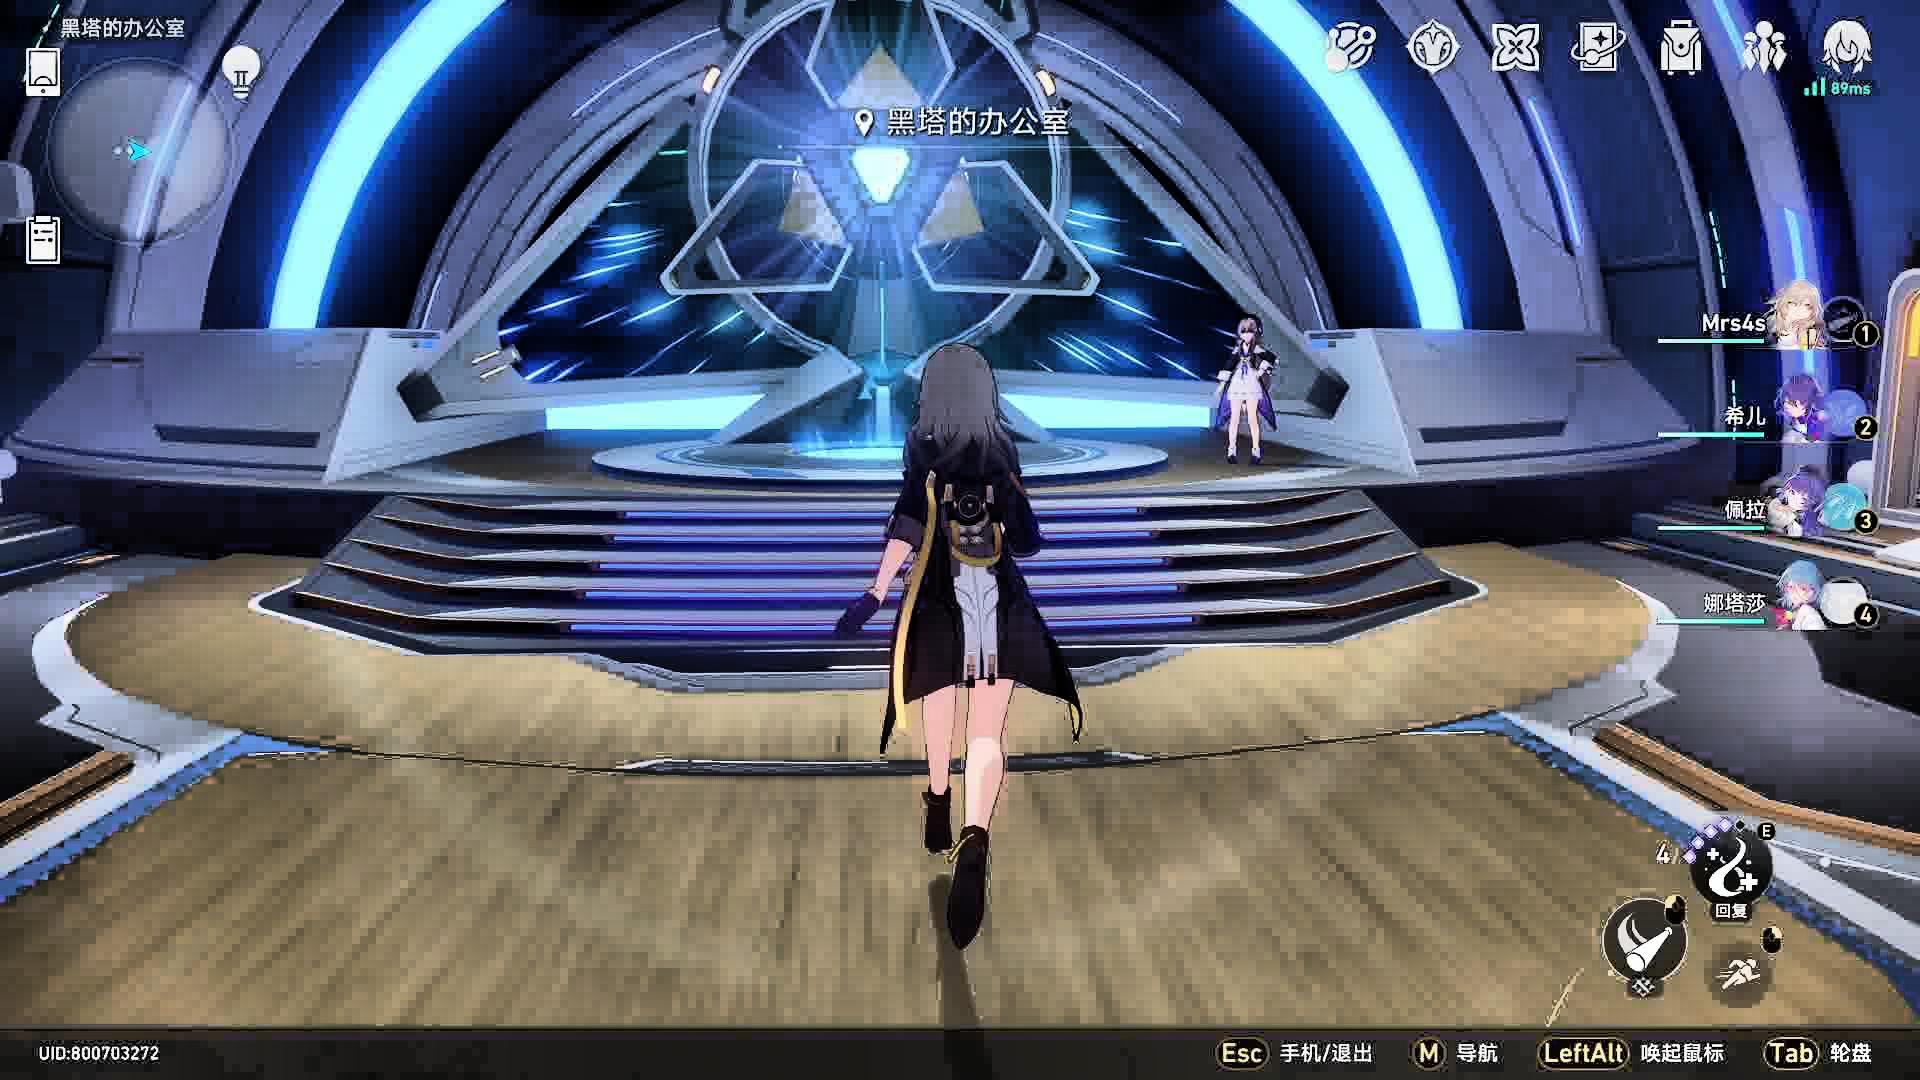Self: (835, 342, 1084, 949)
TeamMate: (1215, 315, 1284, 467)
